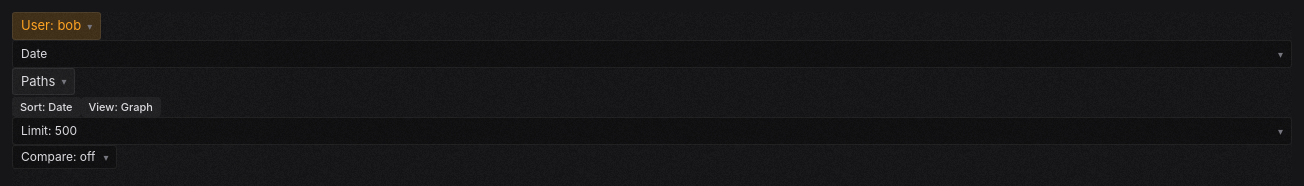
Test: GitHistoryFilters › compact menus › User menu: recent authors and All users; Escape steps back, then closes
The width and height of the screenshot is (1304, 186).
Click the button with class "git-branches__user-button".
click(57, 26)  # box [12, 12, 101, 40]
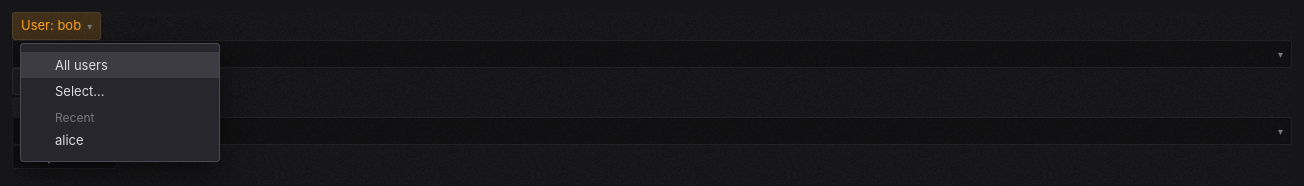
Expected: the menu with class "git-history-menu__menu" shows "All users", [55, 57, 108, 73]
Expected: the menu with class "git-history-menu__menu" shows "Recent", [55, 110, 94, 125]
Expected: the menu with class "git-history-menu__menu" shows "alice", [55, 132, 84, 148]
Press ArrowDown in the menu with class "git-history-menu__menu", box [20, 43, 220, 162]
Press Enter in the menu with class "git-history-menu__menu", box [20, 43, 220, 162]
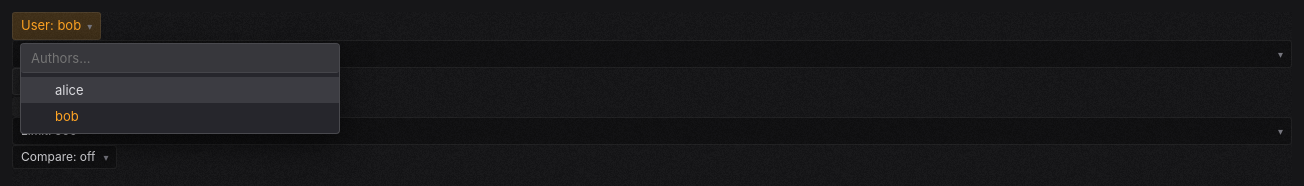
Expected: the search field named "Search authors" is shown, [21, 44, 339, 73]
Press Escape in the menu with class "git-history-menu__menu", box [20, 43, 340, 134]
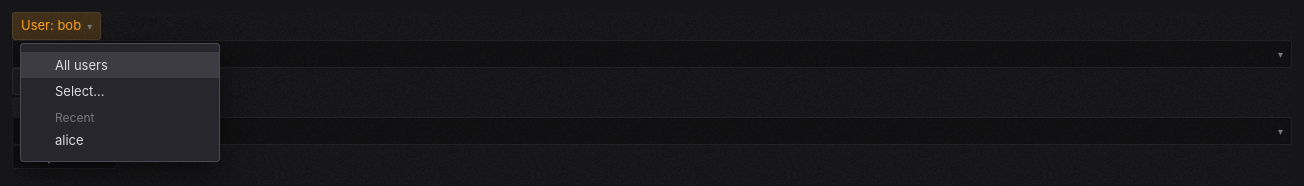
Press Escape in the menu with class "git-history-menu__menu", box [20, 43, 220, 162]
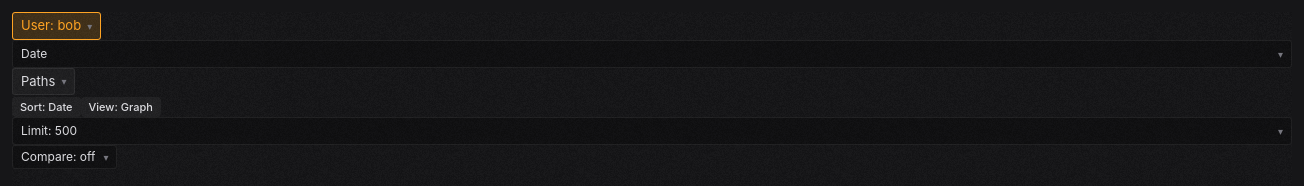
Expected: the menu with class "git-history-menu__menu" is gone
